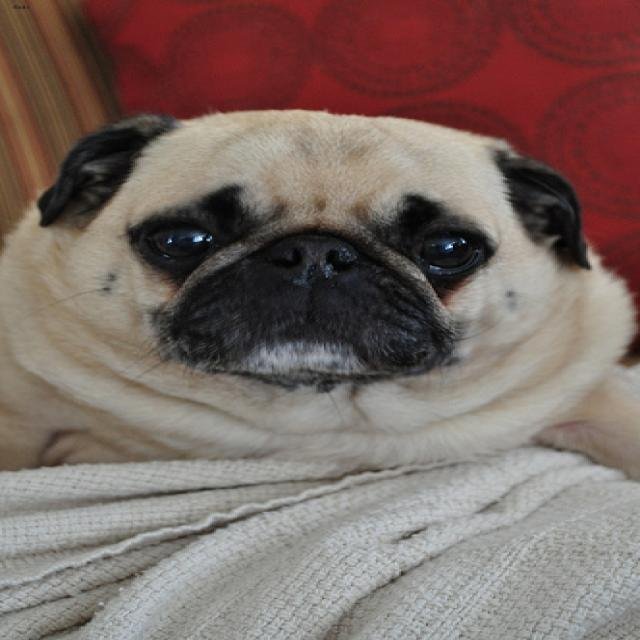dog-pug: (2, 100, 636, 492)
